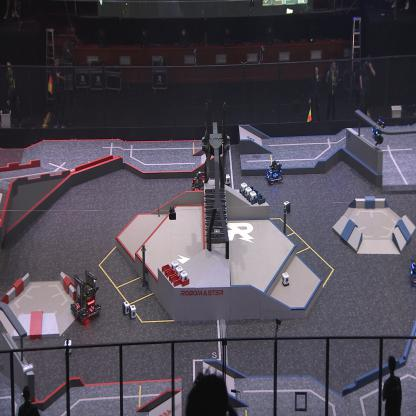car: (70, 268, 102, 323), (264, 158, 284, 184), (191, 170, 207, 196), (409, 257, 416, 288)
